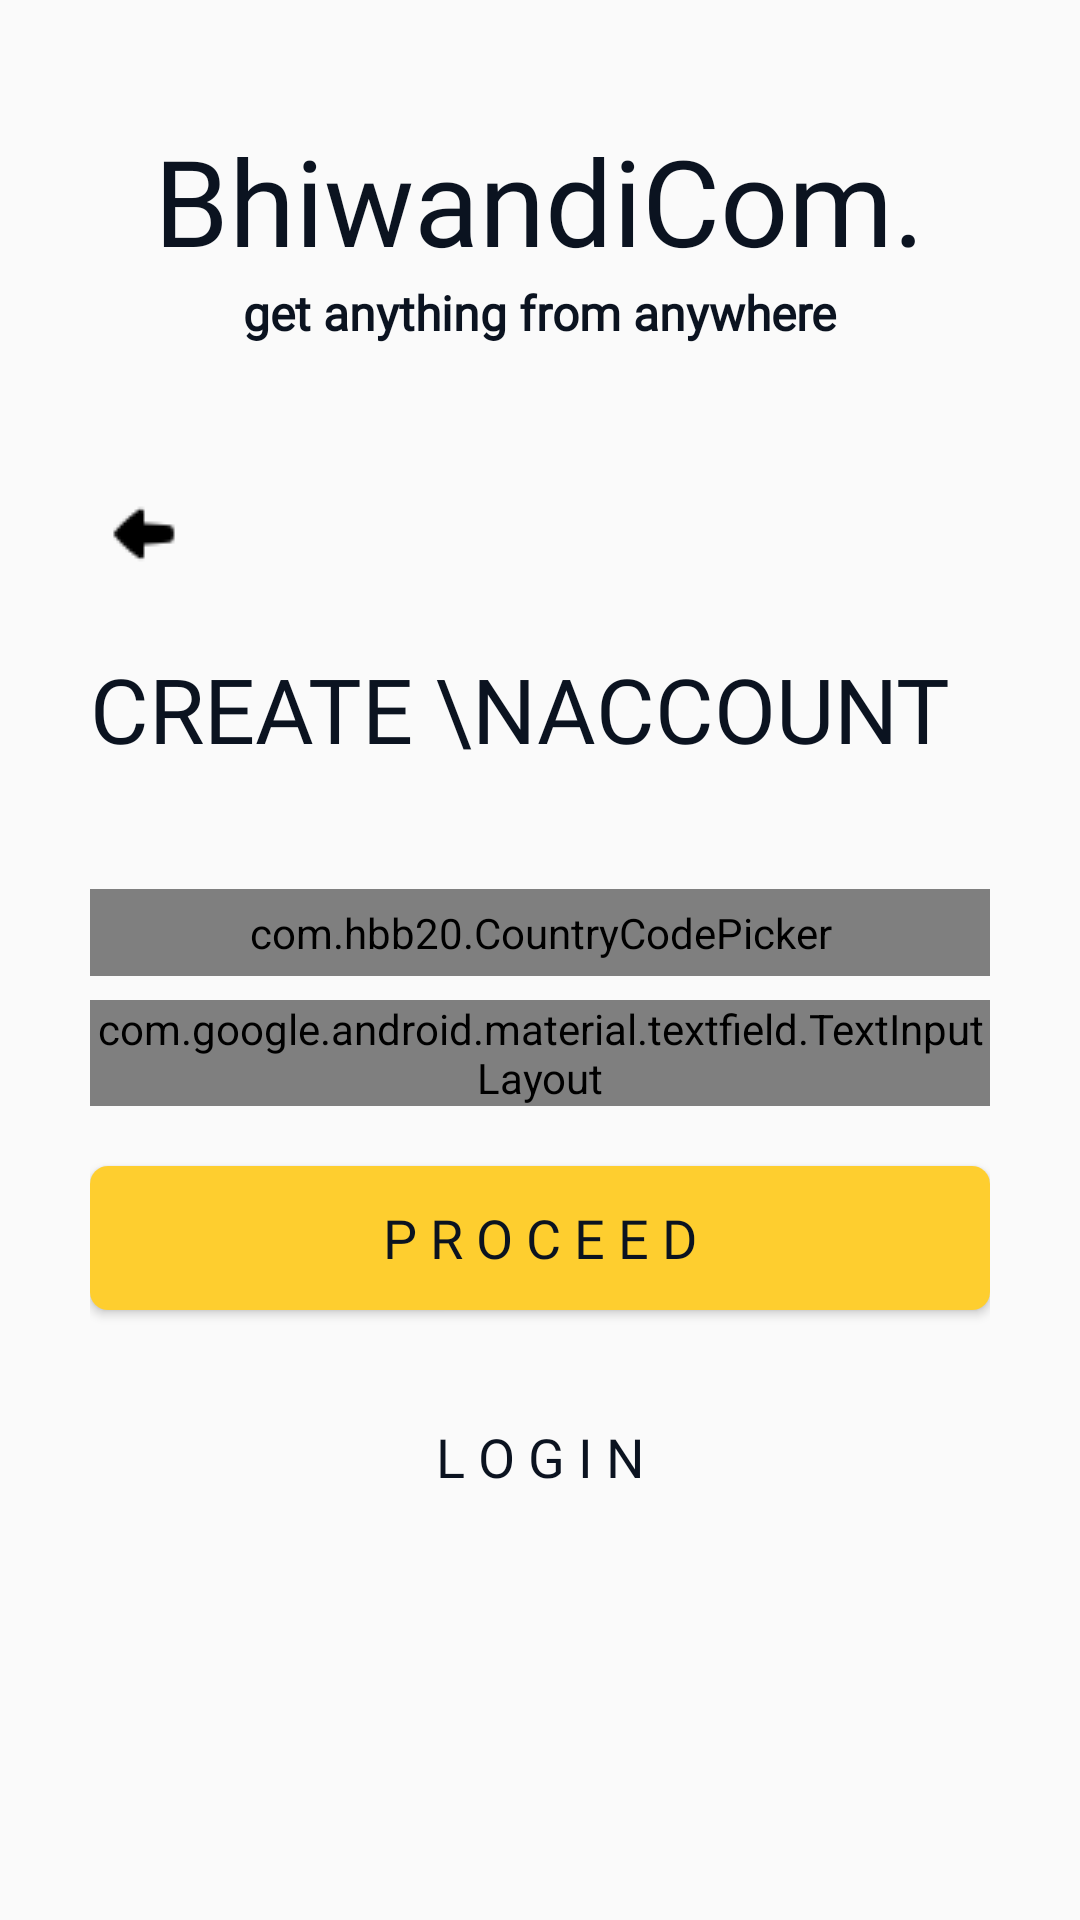

Icons on this 1080×1920 Android screen, each with the point to tap as (x=x, y=y):
back: (x=144, y=533)
